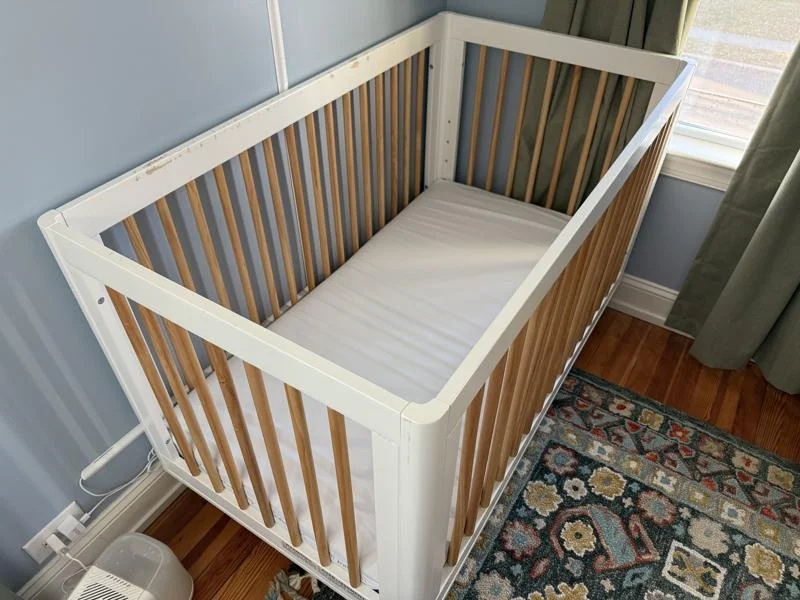crib: (40, 13, 690, 599)
